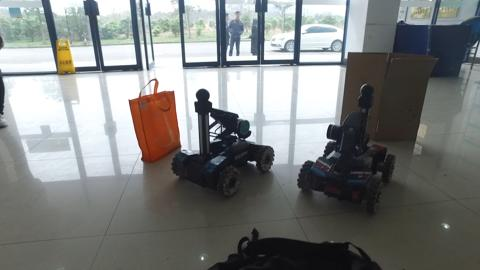bag: (127, 81, 180, 160)
chariot: (296, 87, 395, 210), (180, 88, 273, 197)
